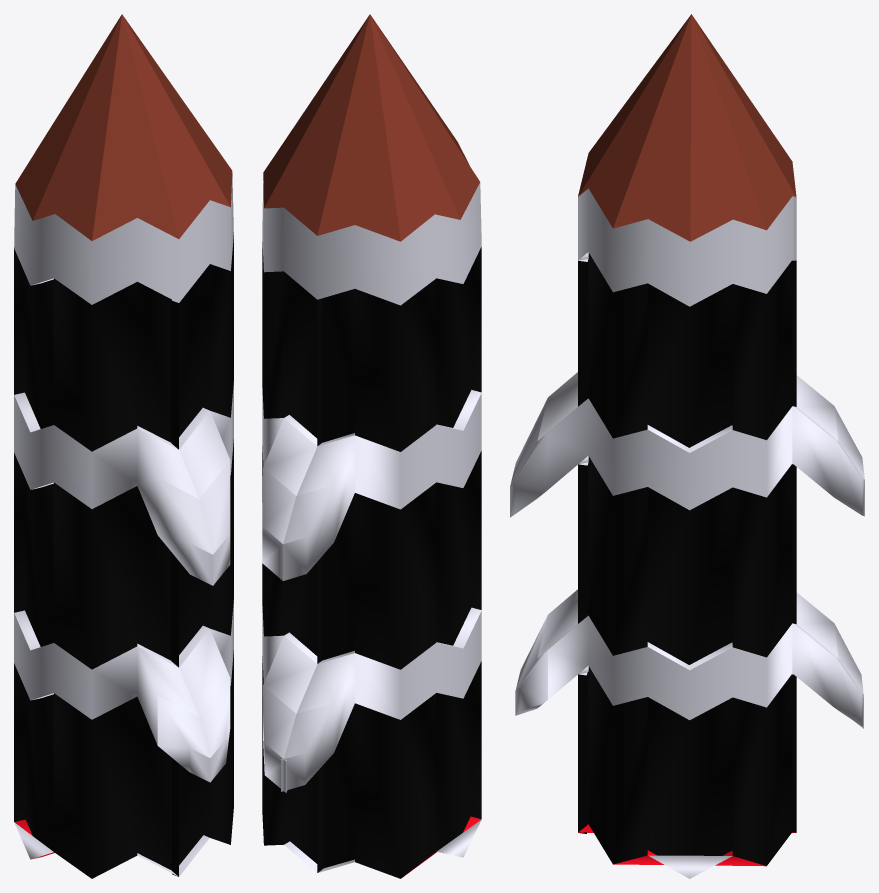
Rendered from missile.fbx.
3 renders of one model, left to right at view 1: azimuth 30°, elevation 25°; view 2: azimuth 150°, elevation 25°; view 3: azimuth 270°, elevation 25°, orthographic.
Visible parts, largest first — view 1: Cone; view 2: Cone; view 3: Cone.
Part boxes in pixels (x1,y1,x2,y2): Cone: (14,14,233,878); Cone: (262,14,481,878); Cone: (510,14,864,878).
Size of the model in its own units: 7.15 by 30.36 by 11.91.
